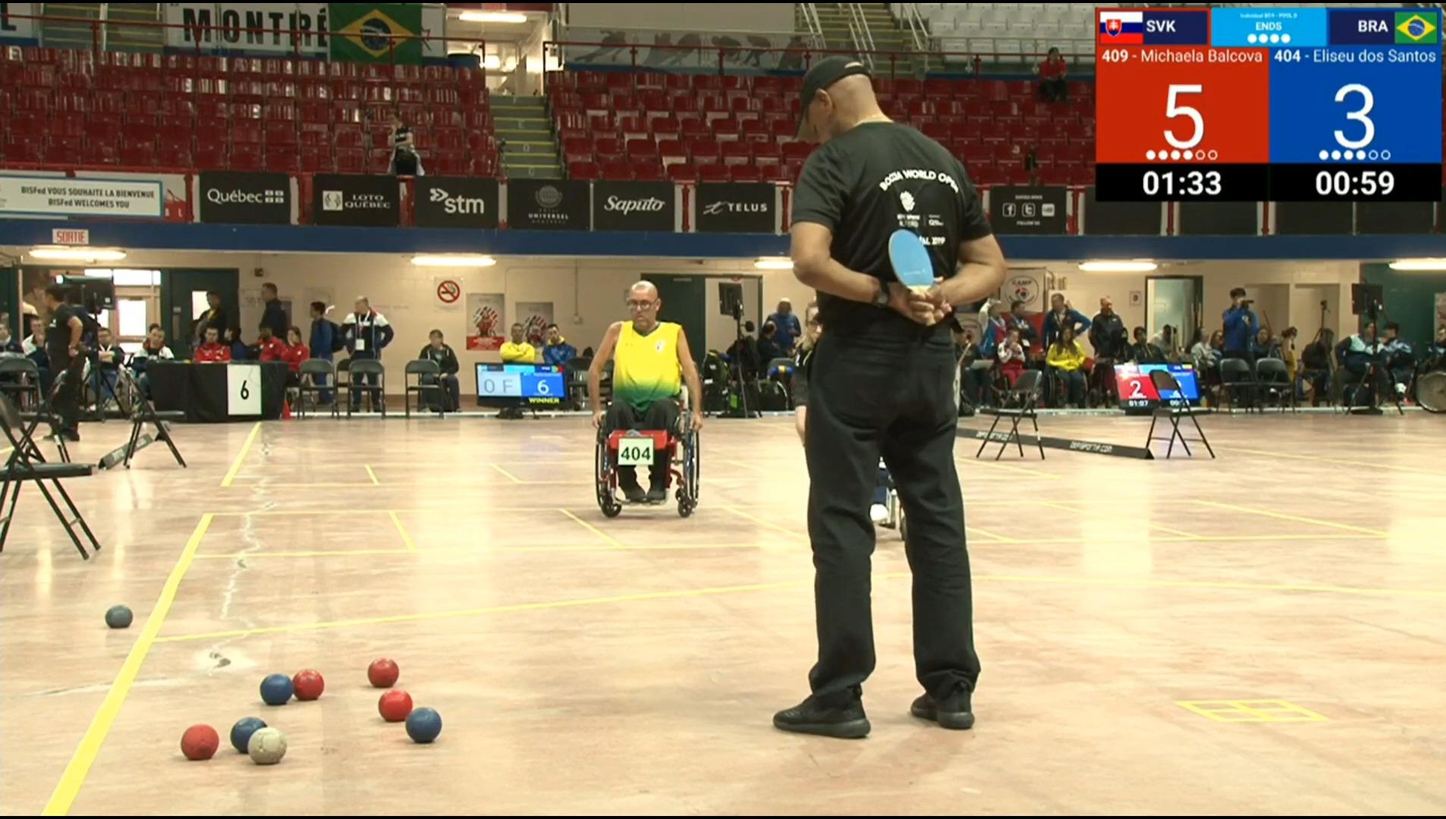blue_ball: (406, 705, 442, 744), (230, 717, 267, 752), (259, 673, 294, 707)
red_ball: (180, 723, 220, 762), (291, 670, 325, 702), (380, 689, 412, 722), (367, 657, 400, 688)
white_ball: (250, 729, 286, 766)
